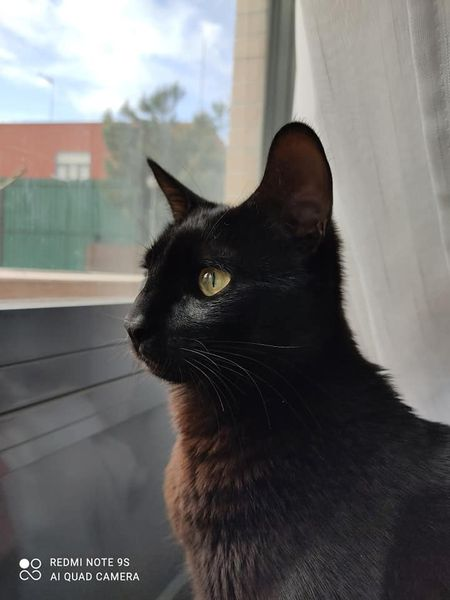cat: (114, 110, 436, 595)
